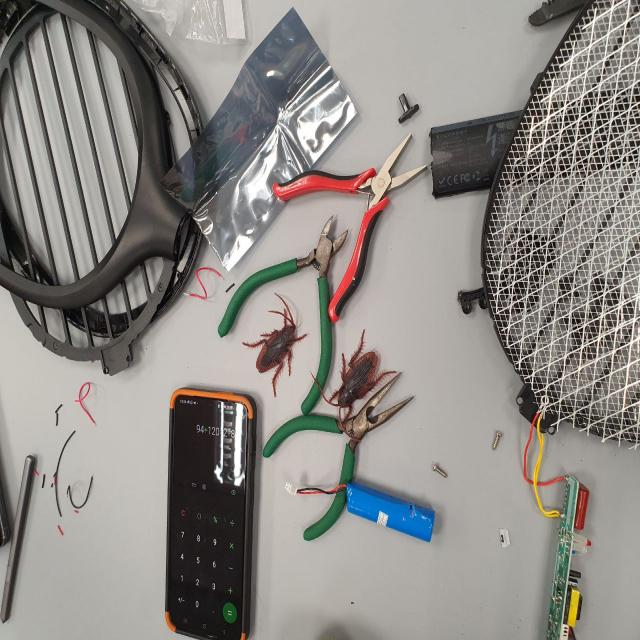Cockroach: (308, 322, 408, 446), (238, 283, 308, 400)
